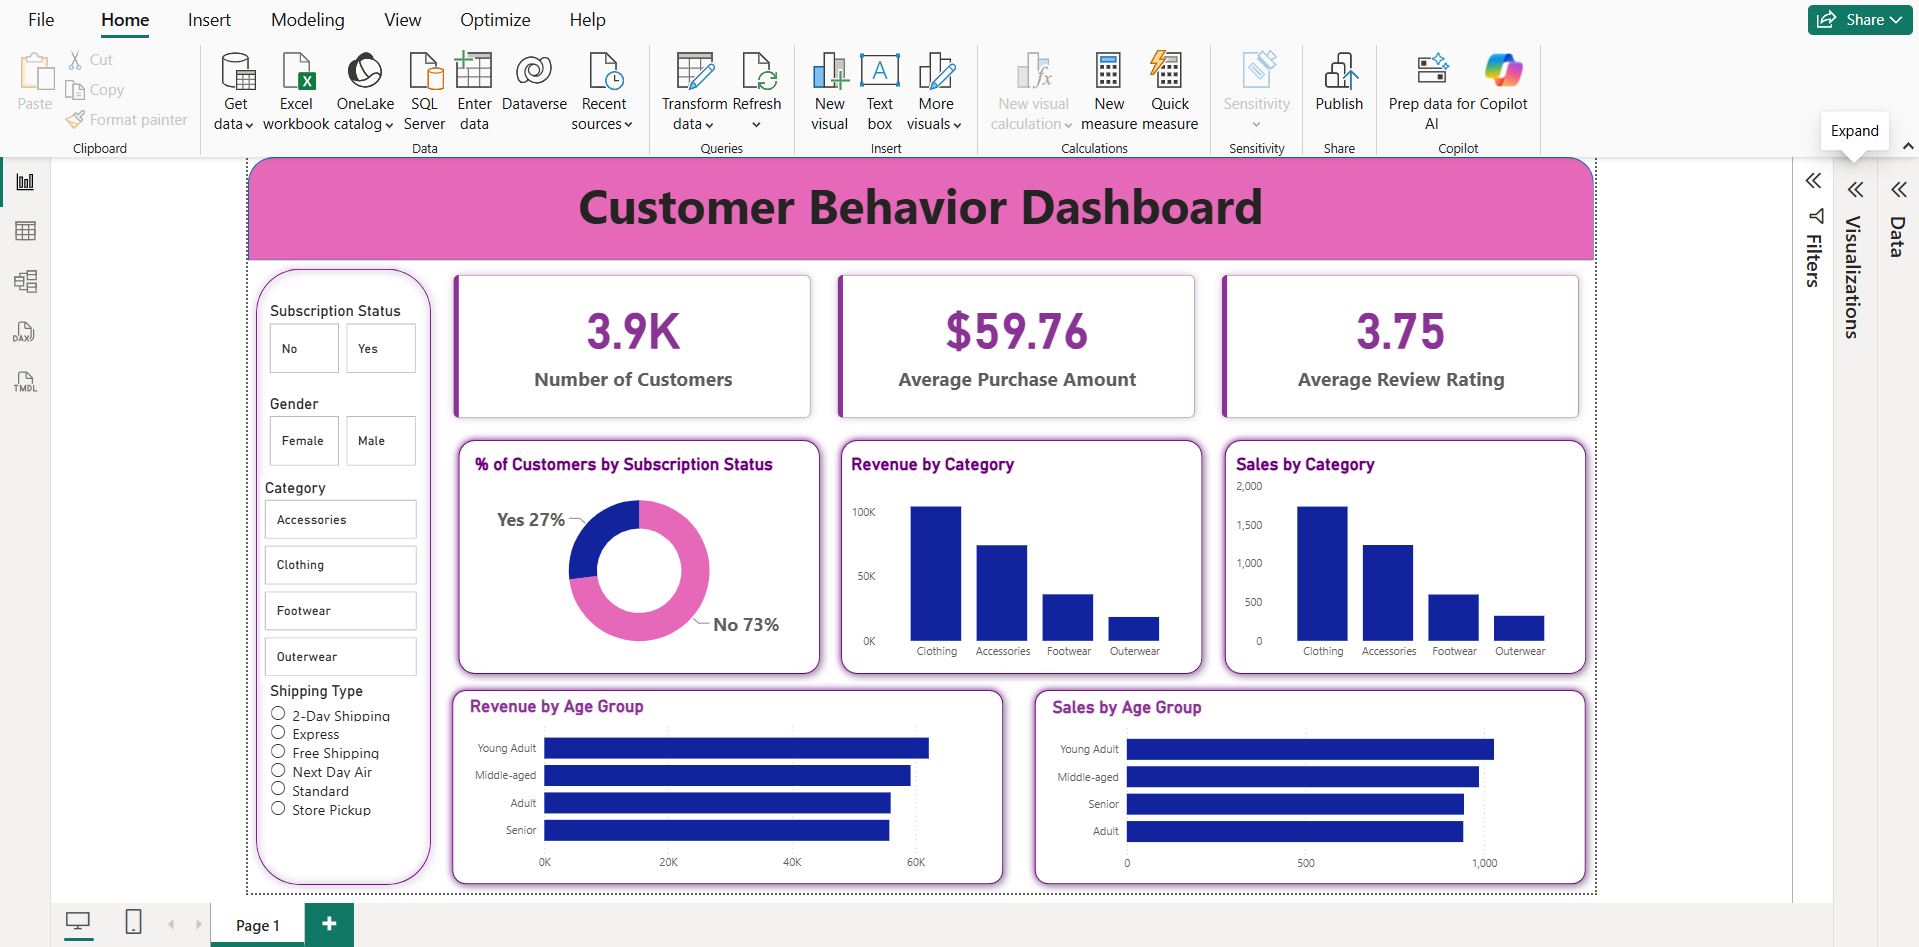

The dashboard page shown, as its layout file describes it:
{"tool":"powerbi","page":{"name":"Page 1","canvas":[1500,820],"ordinal":0},"visuals":[{"type":"cardVisual","fields":{"Data":["public customer.Number of Customers","public customer.Average Purchase Amount","public customer.Average Review Rating"]},"box":[212.9,115.3,1286.5,191.6],"z":2000},{"type":"shape","box":[218.3,585.6,631.7,234.2],"z":2500,"group":"g1"},{"type":"shape","box":[0,0,1499.4,115.3],"z":3000},{"type":"textbox","box":[0,12.4,1499.4,102.9],"z":4000},{"type":"shape","box":[225.4,307,420.5,278.6],"z":5000},{"type":"donutChart","title":"% of Customers by Subscription Status","fields":{"Category":["public customer.subscription_status"],"Y":["CountNonNull(public customer.customer_id)"]},"box":[248.4,331.8,376.2,237.8],"z":6000},{"type":"shape","box":[1078.9,307,420.5,278.6],"z":7000},{"type":"shape","box":[652.1,307,420.5,278.6],"z":8000},{"type":"clusteredColumnChart","title":"Revenue by Category","fields":{"Y":["Sum(public customer.purchase_amount)"],"Category":["public customer.category"]},"box":[667.2,331.8,385.1,237.8],"z":9000},{"type":"clusteredColumnChart","title":"Sales by Category","fields":{"Y":["CountNonNull(public customer.customer_id)"],"Category":["public customer.category"]},"box":[1096.6,331.8,385.1,237.8],"z":10000},{"type":"shape","box":[0,115.3,212.9,704.5],"z":11000},{"type":"advancedSlicerVisual","fields":{"Values":["public customer.subscription_status"]},"box":[19.5,161.5,173.9,85.2],"z":12000},{"type":"advancedSlicerVisual","fields":{"Values":["public customer.gender"]},"box":[19.5,264.4,173.9,85.2],"z":13000},{"type":"advancedSlicerVisual","fields":{"Values":["public customer.category"]},"box":[13.9,357.9,179.7,227],"z":14000},{"type":"listSlicer","fields":{"Values":["public customer.shipping_type"]},"box":[19.5,584.9,168.5,204.7],"z":15000},{"type":"shape","box":[867.7,585.6,631.7,234.2],"z":16000},{"type":"clusteredBarChart","title":"Sales by Age Group","fields":{"Y":["CountNonNull(public customer.customer_id)"],"Category":["public customer.age_group"]},"box":[890.8,601.5,585.6,204.1],"z":17000},{"type":"clusteredBarChart","title":"Revenue by Age Group","fields":{"Y":["Sum(public customer.purchase_amount)"],"Category":["public customer.age_group"]},"box":[241.4,601.6,585.6,204.1],"z":17500,"group":"g1"},{"type":"group","id":"g1","title":"Group 1","box":[218.3,585.6,631.7,234.2],"z":17501}]}

Visuals, with their boxes on the page's 1500x820 design canvas (x1, y1, x2, y2). These are canvas units, not pixel positions in the 1919x947 screenshot, which may show the page scaled, cropped or inside an application window:
cardVisual - public customer.Number of Customers x public customer.Average Purchase Amount: BBox(213, 115, 1499, 307)
shape: BBox(218, 586, 850, 820)
shape: BBox(0, 0, 1499, 115)
textbox: BBox(0, 12, 1499, 115)
shape: BBox(225, 307, 646, 586)
"% of Customers by Subscription Status" donutChart: BBox(248, 332, 625, 570)
shape: BBox(1079, 307, 1499, 586)
shape: BBox(652, 307, 1073, 586)
"Revenue by Category" clusteredColumnChart: BBox(667, 332, 1052, 570)
"Sales by Category" clusteredColumnChart: BBox(1097, 332, 1482, 570)
shape: BBox(0, 115, 213, 820)
advancedSlicerVisual - public customer.subscription_status: BBox(20, 162, 193, 247)
advancedSlicerVisual - public customer.gender: BBox(20, 264, 193, 350)
advancedSlicerVisual - public customer.category: BBox(14, 358, 194, 585)
listSlicer - public customer.shipping_type: BBox(20, 585, 188, 790)
shape: BBox(868, 586, 1499, 820)
"Sales by Age Group" clusteredBarChart: BBox(891, 602, 1476, 806)
"Revenue by Age Group" clusteredBarChart: BBox(241, 602, 827, 806)
"Group 1" group: BBox(218, 586, 850, 820)
